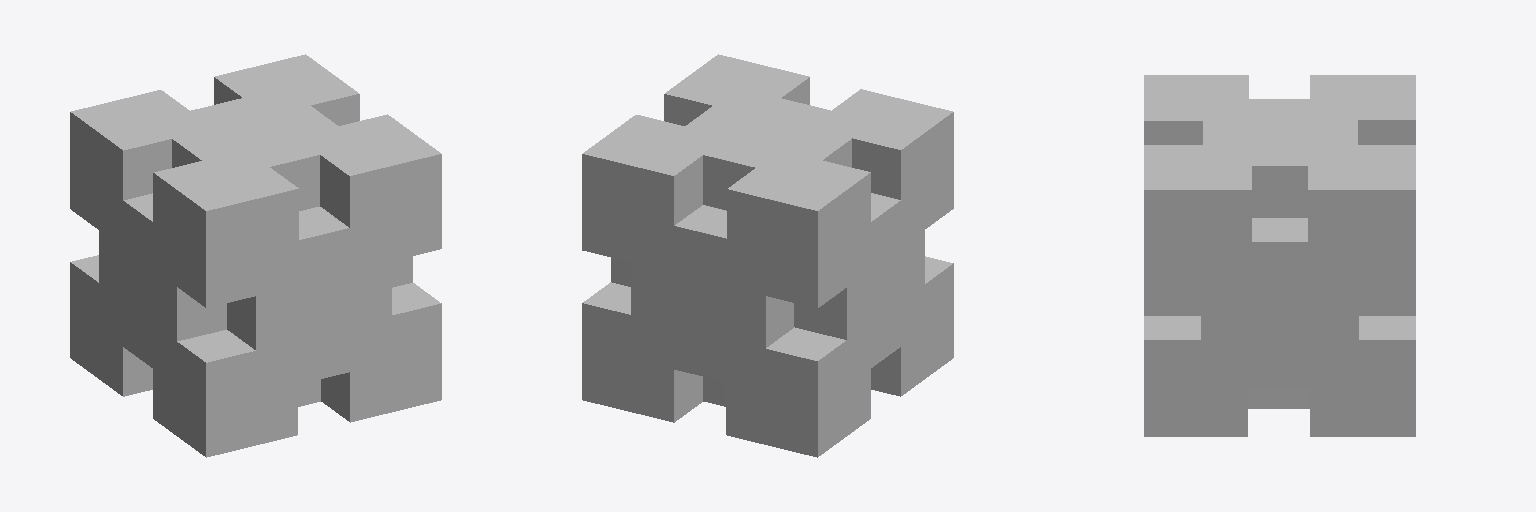
File: ACube_XX.obj
3 views of the same model, side by side, from view 1: azimuth 30°, elevation 25°; view 2: azimuth 150°, elevation 25°; view 3: azimuth 270°, elevation 25° (orthographic).
Parts seen in each view (by area): view 1: pCube1; view 2: pCube1; view 3: pCube1.
Boxes of the visible parts, <box> form: pCube1: <box>70,54,441,457</box>; pCube1: <box>582,54,953,457</box>; pCube1: <box>1144,75,1415,436</box>.
Bounding box in the file's own units: 0.9 × 0.9 × 0.9.